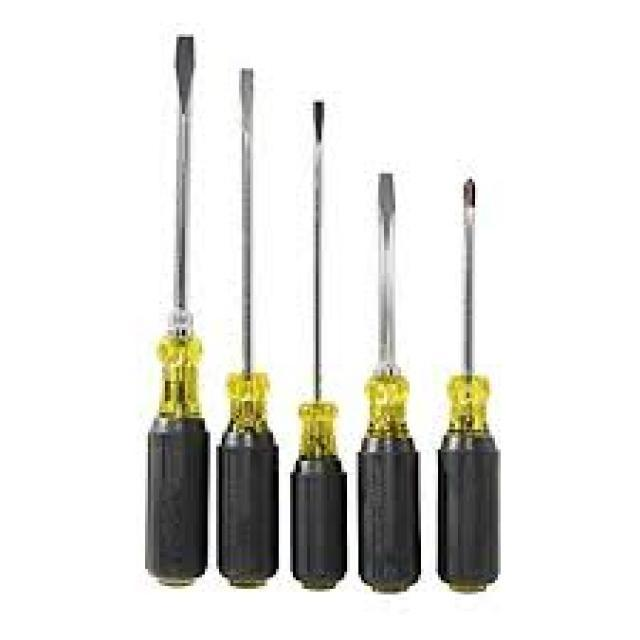screwdriver: (130, 30, 214, 593), (214, 65, 278, 589), (284, 100, 350, 594), (356, 169, 424, 596), (432, 173, 500, 594)
